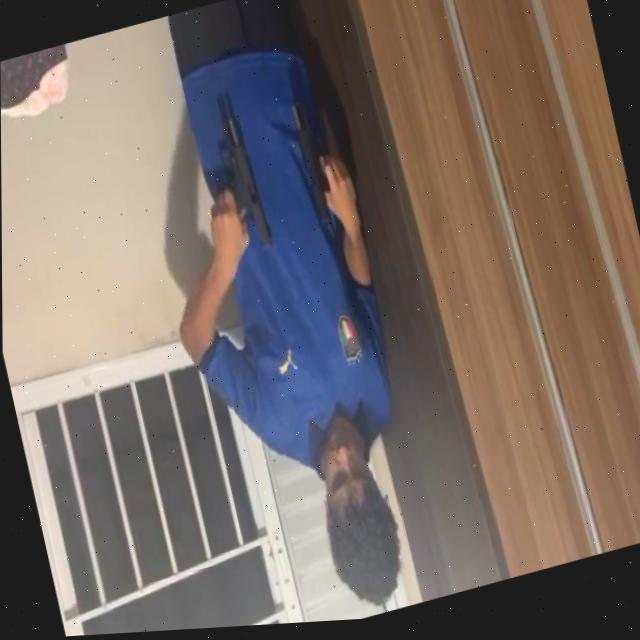gun: (212, 110, 276, 262), (286, 95, 340, 238)
